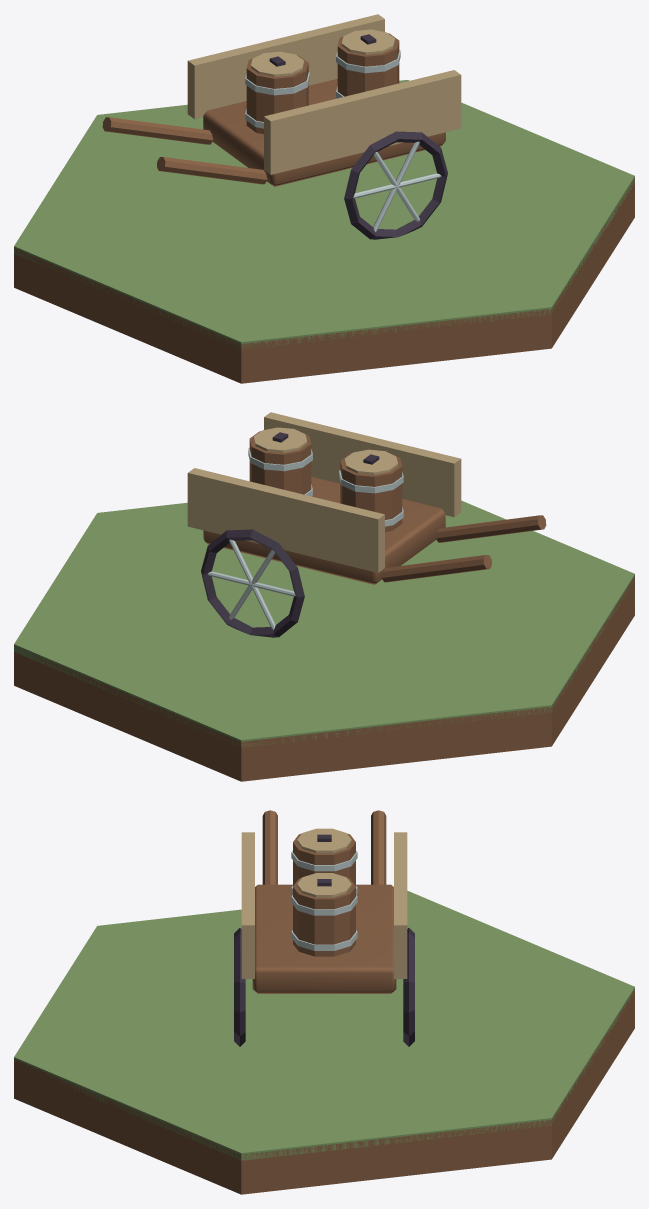
File: deliveryCart.glb
3 renders of one model, top to bottom at view 1: azimuth 30°, elevation 25°; view 2: azimuth 150°, elevation 25°; view 3: azimuth 270°, elevation 25°, orthographic.
Parts seen in each view (by area): view 1: Cone.277, Cone.276, Cube.075, Cube.076, Cube.074, Torus.006, Cone.284, Cone.288, Cone.292, Cone.293, Cone.287, Cone.291 (+1 smaller); view 2: Cone.277, Cone.276, Cube.076, Cube.075, Cube.074, Torus.007, Cone.284, Cone.288, Cone.292, Cone.293, Cone.287, Cone.291 (+1 smaller); view 3: Cone.277, Cone.276, Cube.074, Cone.288, Cube.075, Cube.076, Cone.284, Torus.006, Torus.007, Cone.292, Cone.293, Cone.287 (+1 smaller).
Part boxes in pixels (bbox=[...]): Cone.277: bbox=[14, 80, 634, 348]; Cone.276: bbox=[14, 179, 634, 383]; Cube.075: bbox=[264, 70, 461, 174]; Cube.076: bbox=[187, 14, 384, 119]; Cube.074: bbox=[203, 79, 445, 186]; Torus.006: bbox=[344, 131, 447, 239]; Cone.284: bbox=[246, 54, 308, 134]; Cone.288: bbox=[337, 33, 399, 96]; Cone.292: bbox=[157, 157, 267, 184]; Cone.293: bbox=[102, 117, 213, 144]; Cone.287: bbox=[251, 51, 304, 76]; Cone.291: bbox=[341, 29, 395, 54]; Cone.277: bbox=[14, 500, 634, 747]; Cone.276: bbox=[14, 576, 634, 781]; Cube.076: bbox=[187, 468, 384, 572]; Cube.075: bbox=[264, 412, 461, 517]; Cube.074: bbox=[203, 477, 445, 584]; Torus.007: bbox=[201, 529, 304, 637]; Cone.284: bbox=[340, 452, 402, 532]; Cone.288: bbox=[249, 431, 311, 494]; Cone.292: bbox=[435, 515, 546, 542]; Cone.293: bbox=[381, 555, 491, 582]; Cone.287: bbox=[344, 449, 397, 474]; Cone.291: bbox=[253, 427, 307, 452]; Cone.277: bbox=[14, 890, 634, 1160]; Cone.276: bbox=[14, 989, 634, 1194]; Cube.074: bbox=[252, 884, 396, 993]; Cone.288: bbox=[293, 878, 355, 956]; Cube.075: bbox=[241, 832, 254, 978]; Cube.076: bbox=[394, 832, 407, 978]; Cone.284: bbox=[293, 833, 355, 885]; Torus.006: bbox=[234, 928, 245, 1046]; Torus.007: bbox=[403, 928, 414, 1046]; Cone.292: bbox=[262, 810, 277, 884]; Cone.293: bbox=[371, 810, 386, 884]; Cone.287: bbox=[297, 828, 351, 853].
Size of the model in its own units: 3.67 by 1.33 by 3.67.
